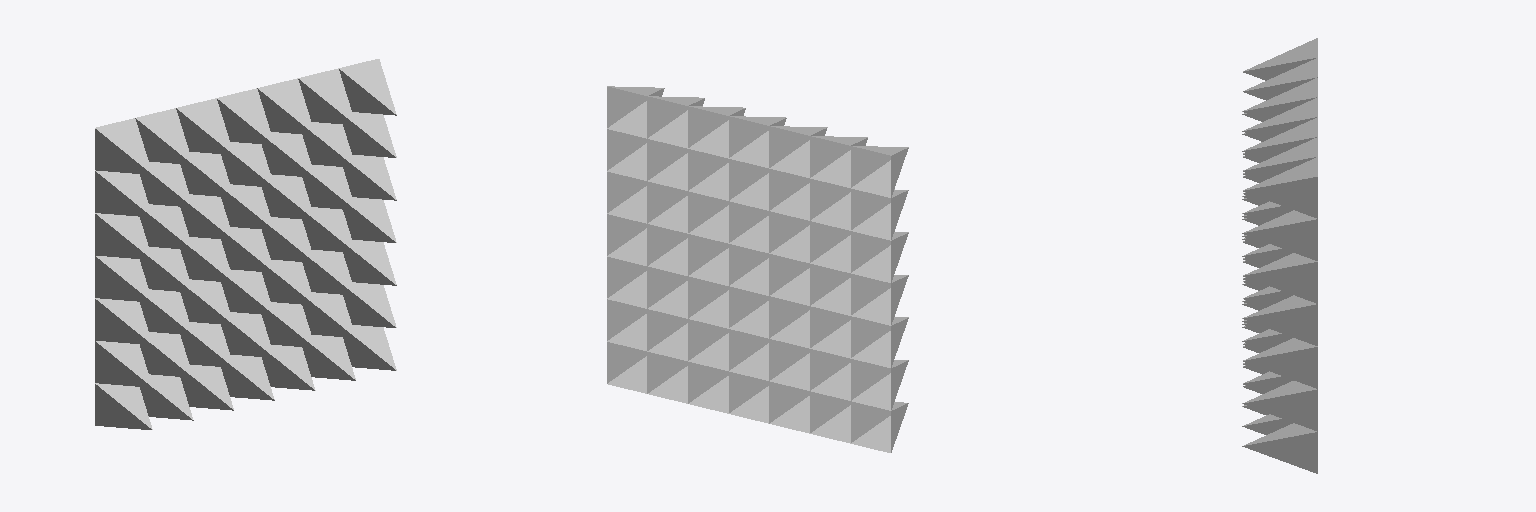
The model's file is spike.obj.
3 renders of one model, left to right at view 1: azimuth 30°, elevation 25°; view 2: azimuth 150°, elevation 25°; view 3: azimuth 270°, elevation 25°, orthographic.
Parts seen in each view (by area): view 1: Plane_Plane.001; view 2: Plane_Plane.001; view 3: Plane_Plane.001.
Boxes of the visible parts, x1,y1,x2,y2 form: Plane_Plane.001: [95, 59, 396, 429]; Plane_Plane.001: [607, 86, 908, 452]; Plane_Plane.001: [1242, 38, 1317, 473].
Bounding box in the file's own units: 0.9946 × 0.9946 × 0.2308.